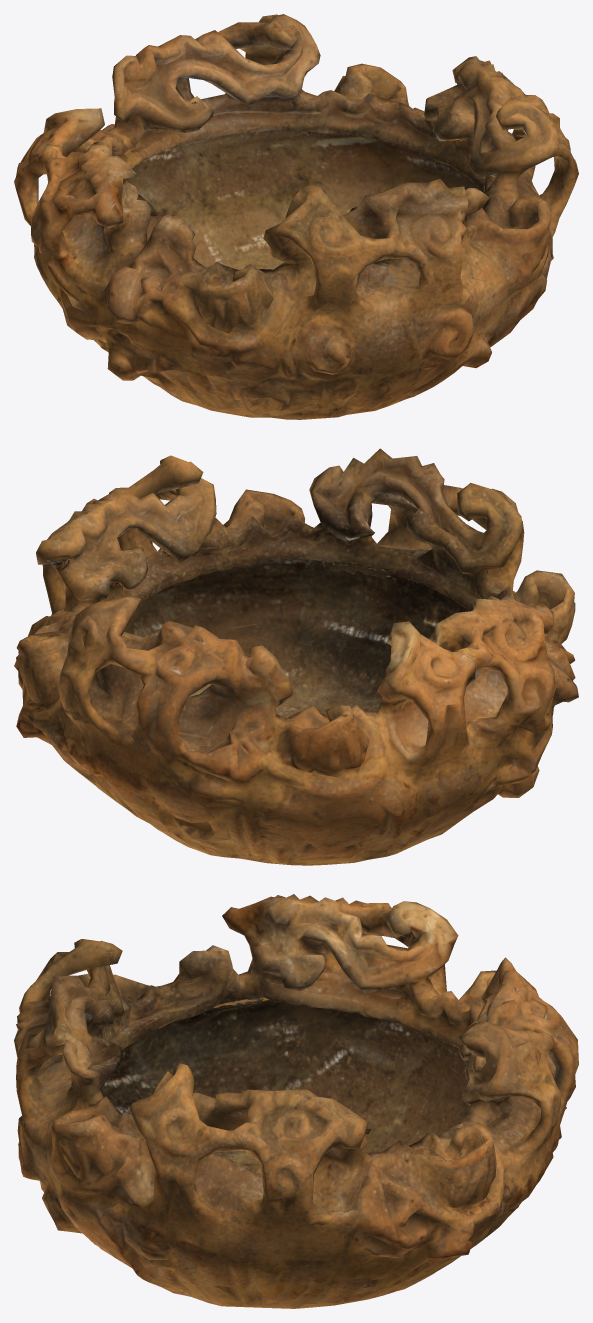
The picture shows the model from 3 angles, top to bottom: view 1: azimuth 30°, elevation 25°; view 2: azimuth 150°, elevation 25°; view 3: azimuth 270°, elevation 25°; orthographic projection. The views are drawn at different scales.
Parts seen in each view (by area): view 1: UD0023_low; view 2: UD0023_low; view 3: UD0023_low.
Part boxes in pixels (left/top/right/bottom): UD0023_low: left=14, top=14, right=578, bottom=419; UD0023_low: left=14, top=448, right=578, bottom=865; UD0023_low: left=14, top=894, right=578, bottom=1308.
Bounding box in the file's own units: 316 × 157 × 300.
Materials: 1 (1 with a texture image).
